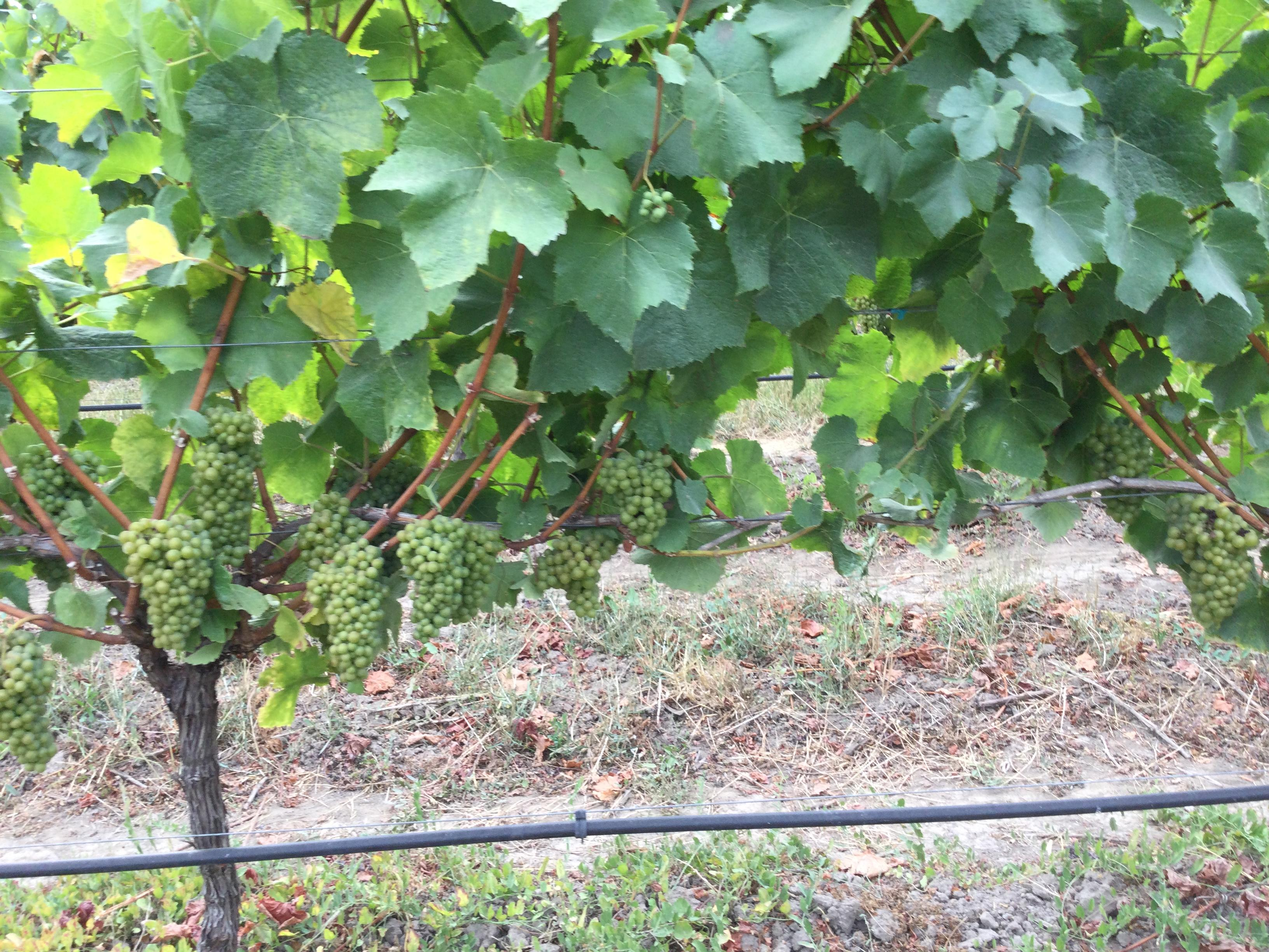leaf: (367, 89, 572, 288), (185, 33, 381, 238), (727, 156, 879, 330), (1061, 65, 1220, 208), (554, 211, 695, 350), (683, 20, 803, 180), (633, 229, 752, 369), (328, 222, 457, 350), (835, 72, 928, 206), (891, 123, 998, 237), (745, 0, 869, 94), (1010, 165, 1106, 283), (219, 278, 313, 388), (337, 341, 435, 443), (1105, 194, 1190, 311), (528, 306, 631, 393), (963, 377, 1051, 478), (1182, 208, 1265, 312), (564, 66, 656, 159), (17, 163, 101, 262), (822, 330, 897, 436), (1156, 288, 1258, 364), (938, 69, 1023, 160), (1035, 275, 1132, 353), (1000, 53, 1089, 137), (30, 63, 113, 143), (937, 271, 1014, 353), (969, 0, 1066, 61), (261, 420, 330, 504), (286, 281, 358, 360), (257, 646, 327, 727), (979, 205, 1044, 291), (474, 40, 549, 112), (557, 145, 631, 217), (247, 355, 322, 426), (111, 413, 173, 492), (726, 439, 787, 516), (632, 549, 726, 593), (1202, 350, 1268, 412), (89, 131, 161, 185), (812, 416, 877, 474), (51, 584, 113, 630), (1020, 500, 1082, 542), (1115, 347, 1171, 393), (914, 0, 982, 32), (194, 286, 227, 312), (1239, 493, 1243, 497), (636, 324, 638, 329), (642, 317, 646, 319), (1257, 308, 1259, 311), (487, 380, 488, 384), (837, 506, 841, 507), (352, 334, 356, 335), (507, 358, 510, 359), (640, 320, 641, 323), (546, 387, 549, 388), (557, 173, 558, 175), (834, 503, 835, 504), (605, 159, 606, 160), (498, 355, 505, 355), (662, 306, 665, 306)
